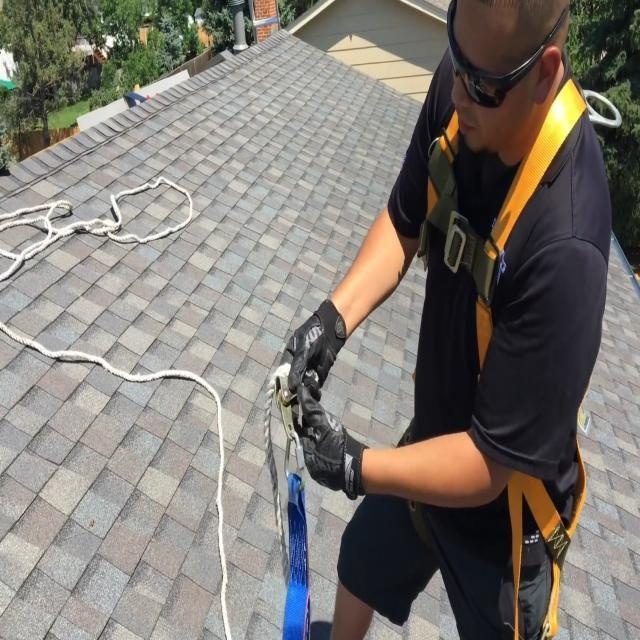Arnes_seguridad: (374, 27, 595, 632)
